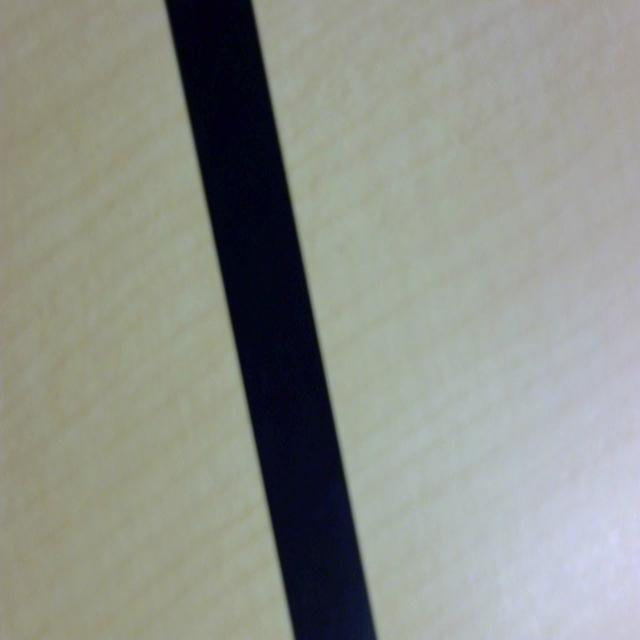tape: (148, 0, 408, 640)
